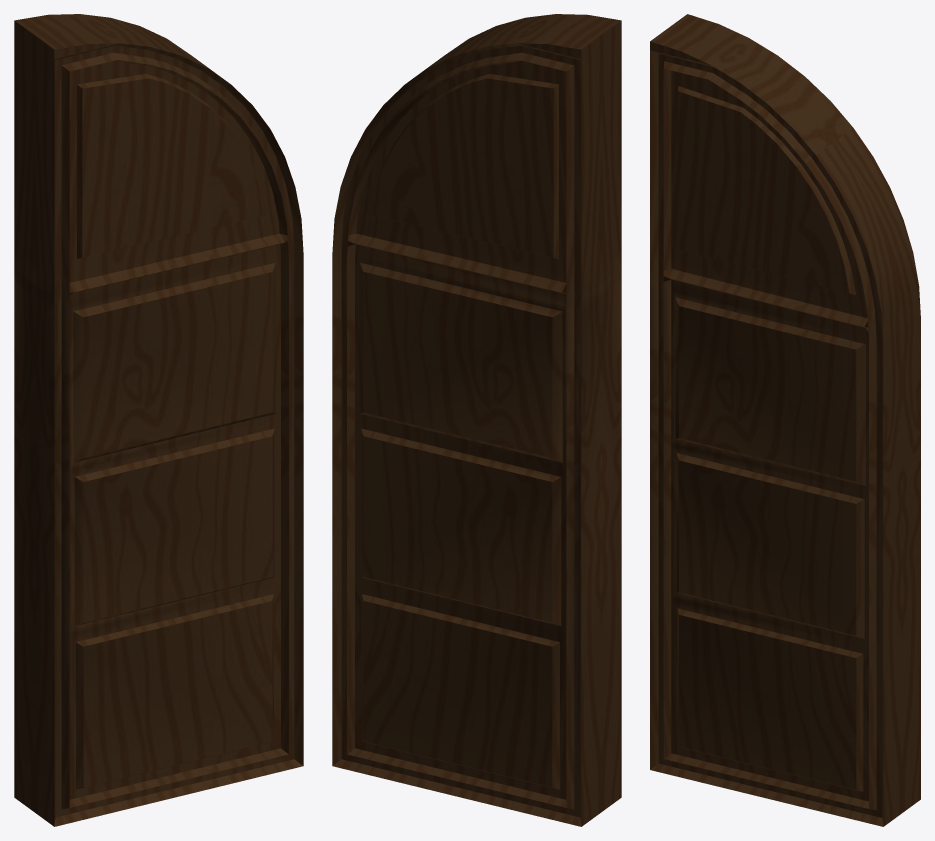
File: Puerta_DreamEater.fbx
The picture shows the model from 3 angles, left to right: view 1: azimuth 30°, elevation 25°; view 2: azimuth 150°, elevation 25°; view 3: azimuth 330°, elevation 25°; orthographic projection. The views are drawn at different scales.
Visible parts, largest first — view 1: Marco Puerta.001; view 2: Marco Puerta.001; view 3: Marco Puerta.001.
Part boxes in pixels (box(x1,y1,x2,y2)): Marco Puerta.001: box(14, 14, 303, 826); Marco Puerta.001: box(332, 14, 621, 826); Marco Puerta.001: box(650, 14, 920, 826).
Size of the model in its own units: 75.46 by 225 by 21.86.
